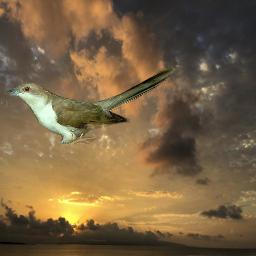Cuckoo: (5, 66, 175, 144)
